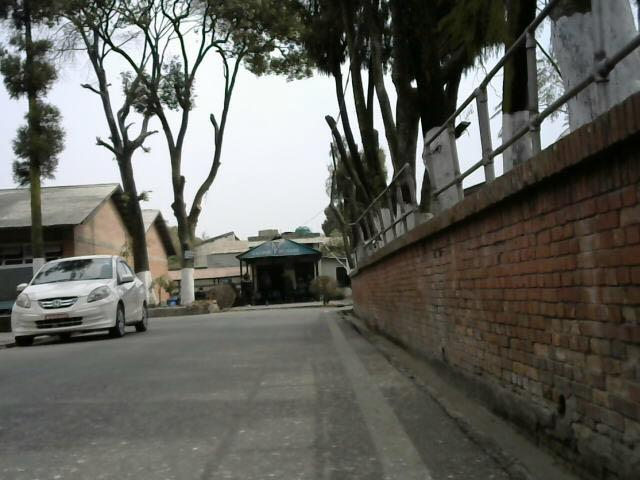Car: (0, 248, 153, 341)
Road: (11, 327, 577, 480)
Tree: (241, 2, 640, 141), (107, 0, 278, 287), (0, 0, 85, 254)
